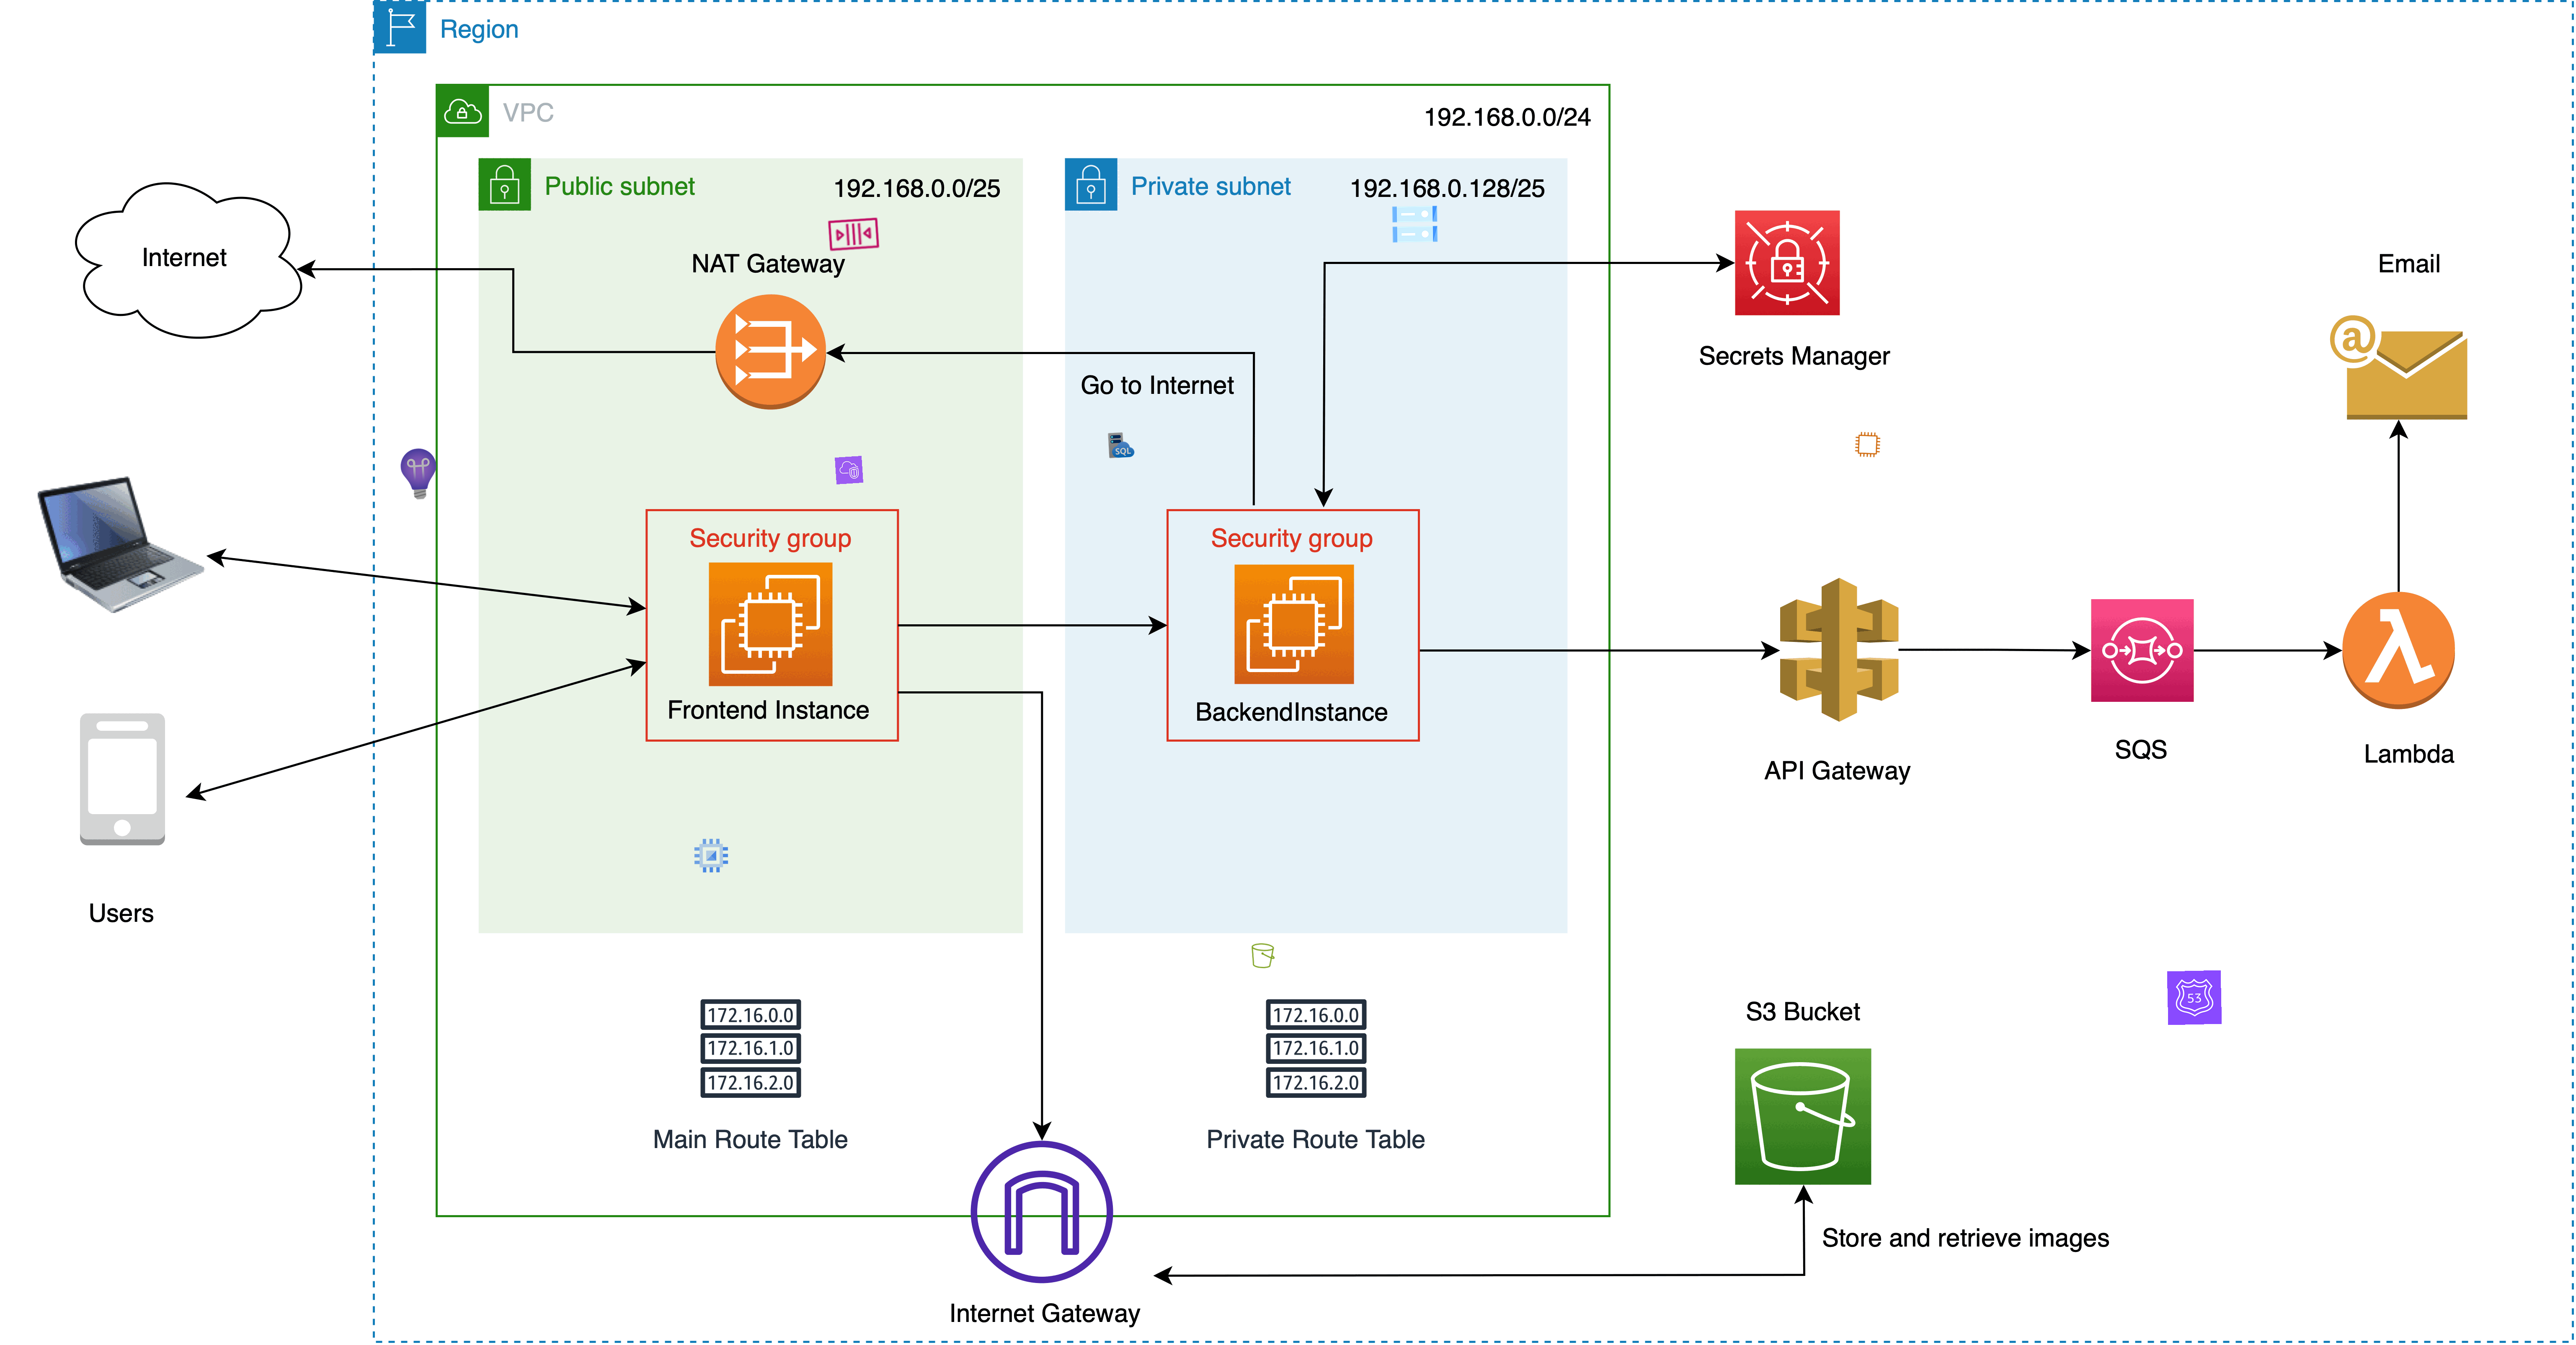aws_amazon_route_53: (2167, 970, 2222, 1025)
aws_amazon_virtual_private_cloud: (835, 455, 864, 484)
aws_ec2_instance: (1854, 430, 1883, 459)
aws_simple_queue_service_queue: (825, 205, 883, 263)
aws_simple_storage_service_s3_standard: (1249, 941, 1278, 970)
azure_application_insights: (390, 445, 448, 503)
azure_sql_managed_instance: (1107, 431, 1136, 459)
gcp_cloud_storage: (1387, 196, 1443, 252)
gcp_compute_engine: (690, 835, 733, 876)
